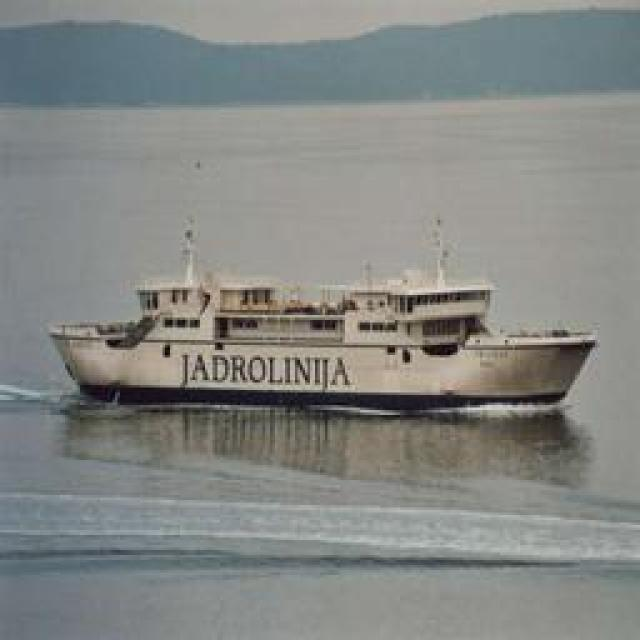CIV_Ship: (51, 235, 604, 408)
